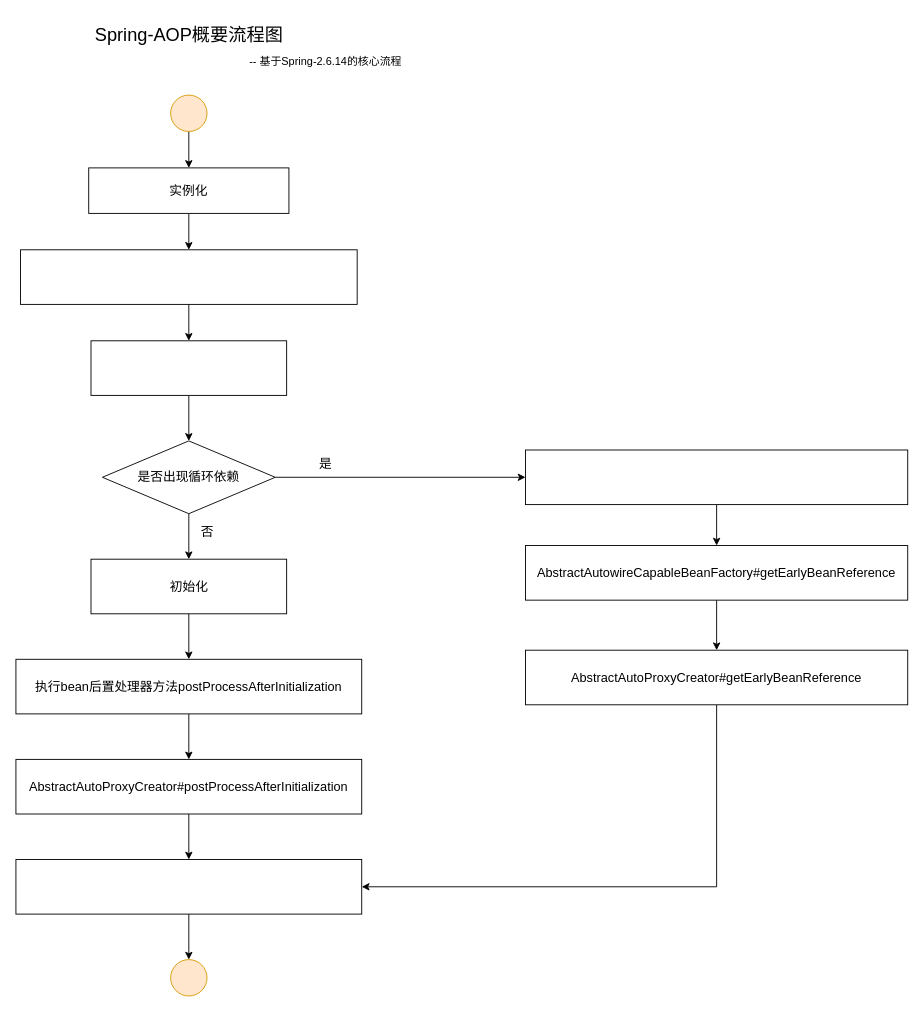
Image size: 924x1012. Some labels were removed from this diagram. Here are the shapes that lost their labels. From the top down, the centre of each, then its label:
At (x=188, y=276): "将bean添加到singletonFactories中 (singletonFactories存放的是ObjectFactory函数式接口)".
At (x=188, y=367): "填充属性".
At (x=716, y=477): "执行ObjectFactory函数式接口方法，即 ObjectFactory.getObject".
At (x=188, y=886): "AbstractAutoProxyCreator#wrapIfNecessary (这个方法实现了AOP的核心逻辑)".
